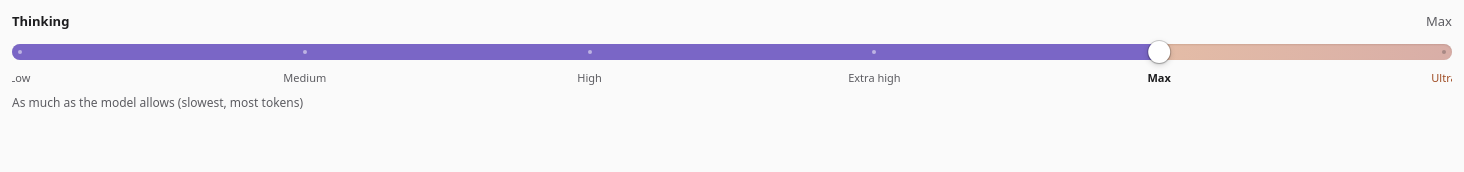
Scenario: arriving at Ultra, frame by frame › never mounts the smoulder, or sends the thumb ahead, in the frame the meteor sets out
This screenshot has width=1464, height=172.
Press the mouse on the slider at {"x": 732, "y": 52}, box [12,36,1452,68]
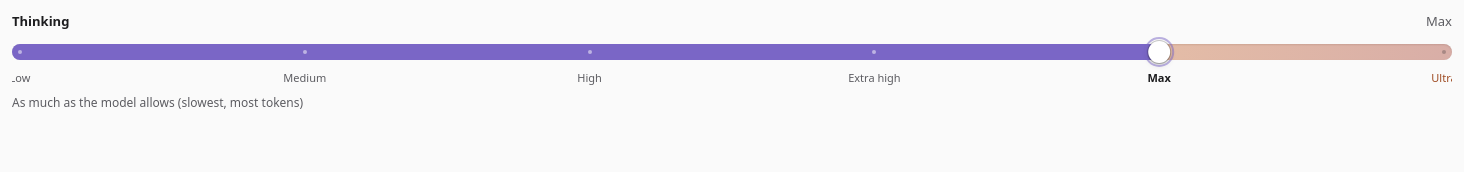
Press the mouse on the slider at {"x": 732, "y": 52}, box [12,36,1452,68]
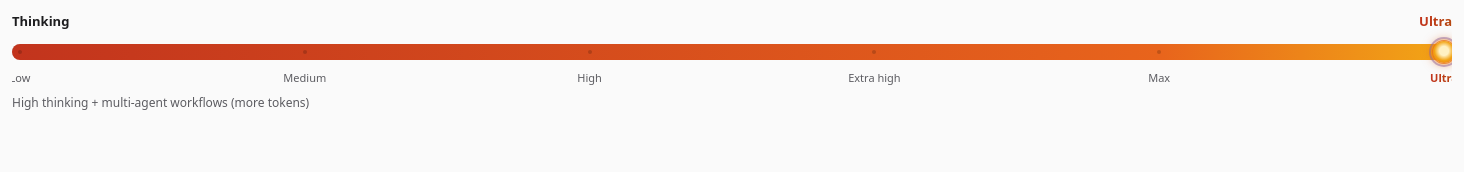
Expected: the drawing with class "thinking-meteor" is shown, [12,44,1452,60]
